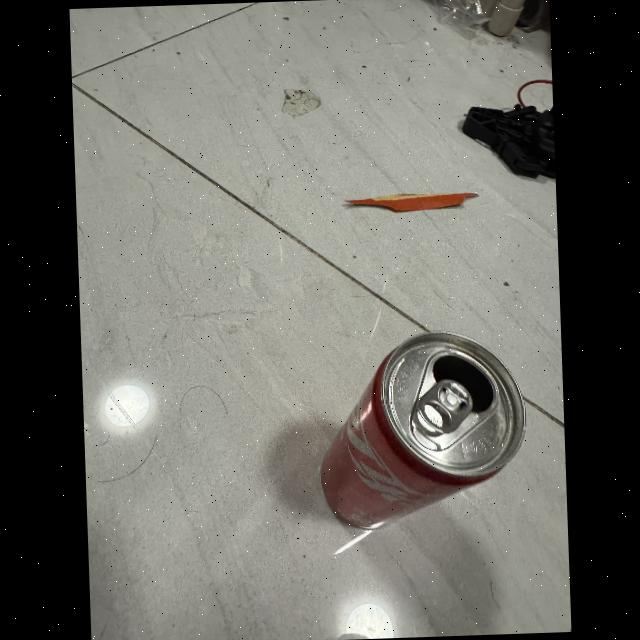Cola: (313, 315, 535, 542)
